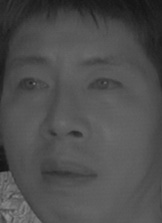eye: (85, 73, 126, 97), (12, 74, 53, 97)
mouth: (40, 152, 97, 192)
